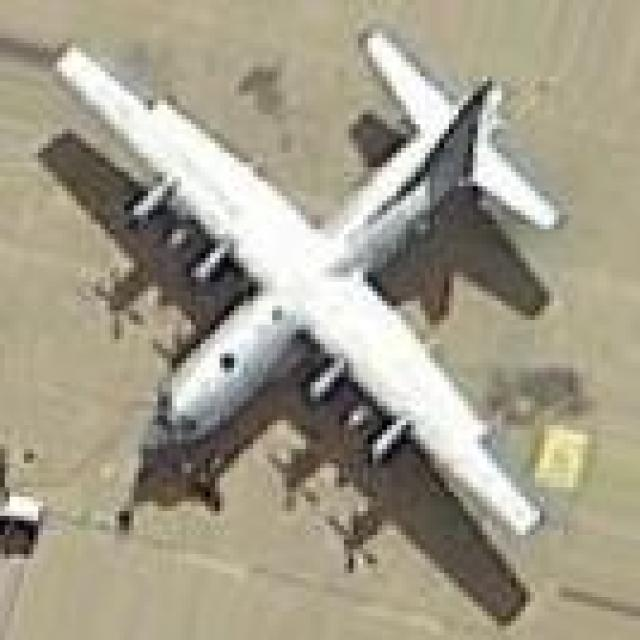C-130_TopDown: (29, 0, 569, 630)
